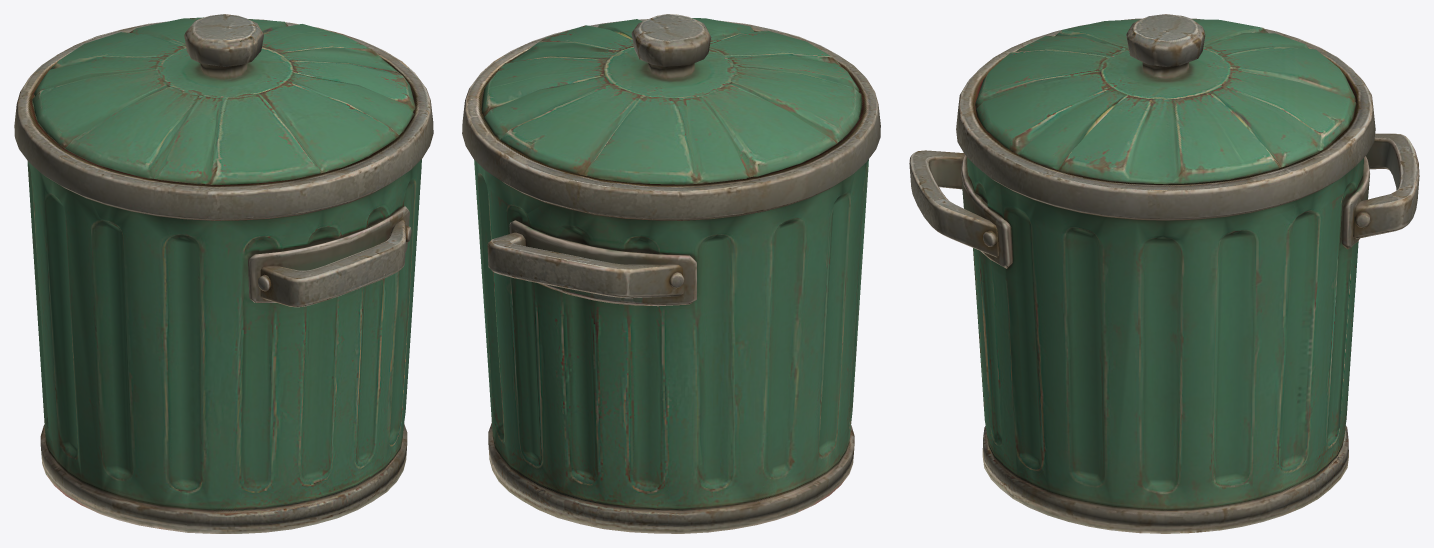
File: P81_alley_bin_Runtime_1k.glb
3 renders of one model, left to right at view 1: azimuth 30°, elevation 25°; view 2: azimuth 150°, elevation 25°; view 3: azimuth 270°, elevation 25°, orthographic.
Parts seen in each view (by area): view 1: tripo_node_a686a0b6; view 2: tripo_node_a686a0b6; view 3: tripo_node_a686a0b6.
Boxes of the visible parts, x1,y1,x2,y2 form: tripo_node_a686a0b6: (14,14,433,533); tripo_node_a686a0b6: (462,14,880,533); tripo_node_a686a0b6: (909,14,1419,533).
Size of the model in its own units: 0.645 by 0.73 by 0.7836.
1 material, 1 textured.
